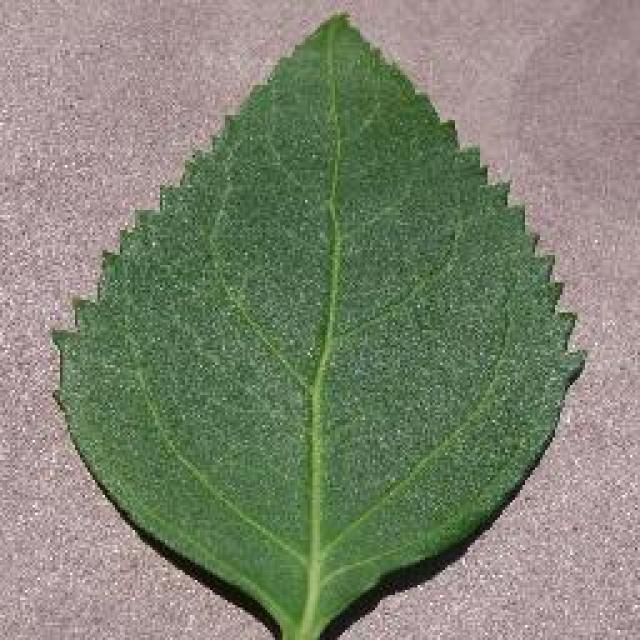Cherry___healthy: (38, 2, 600, 640)
